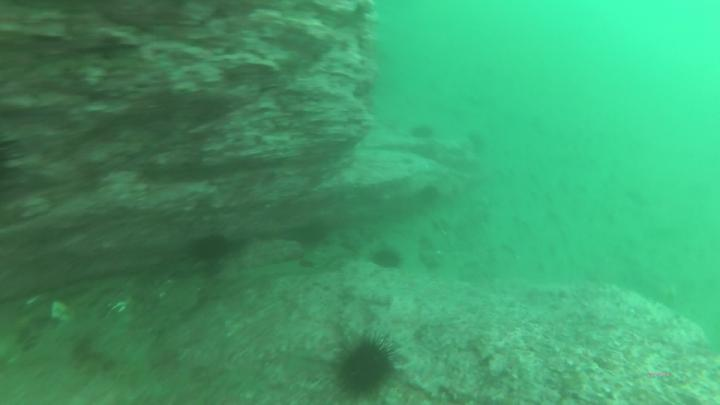echinus: (322, 332, 400, 405), (185, 234, 232, 265), (366, 247, 406, 274), (408, 123, 437, 141)
